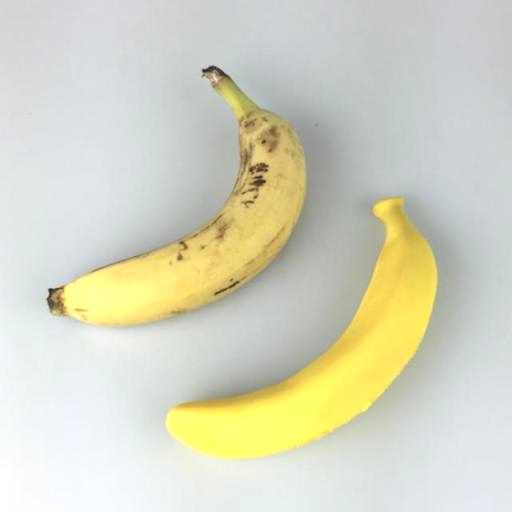fruit: (167, 198, 436, 457), (48, 67, 305, 325)
